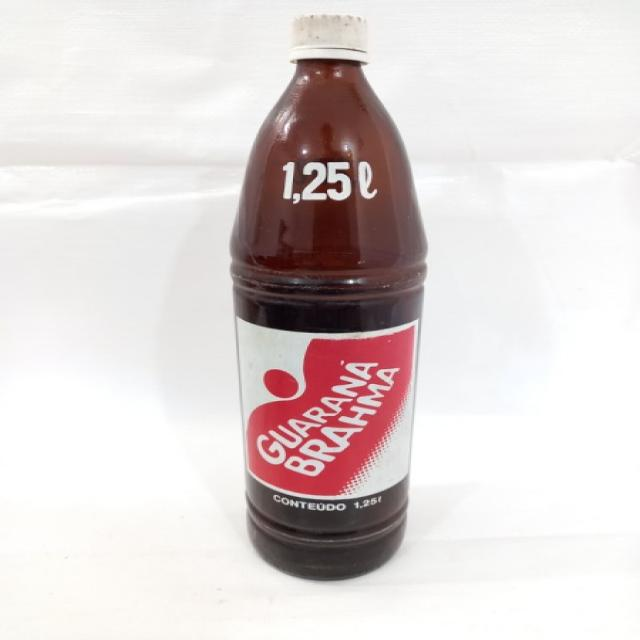bottom: (237, 498, 424, 594)
cap: (275, 10, 392, 78)
